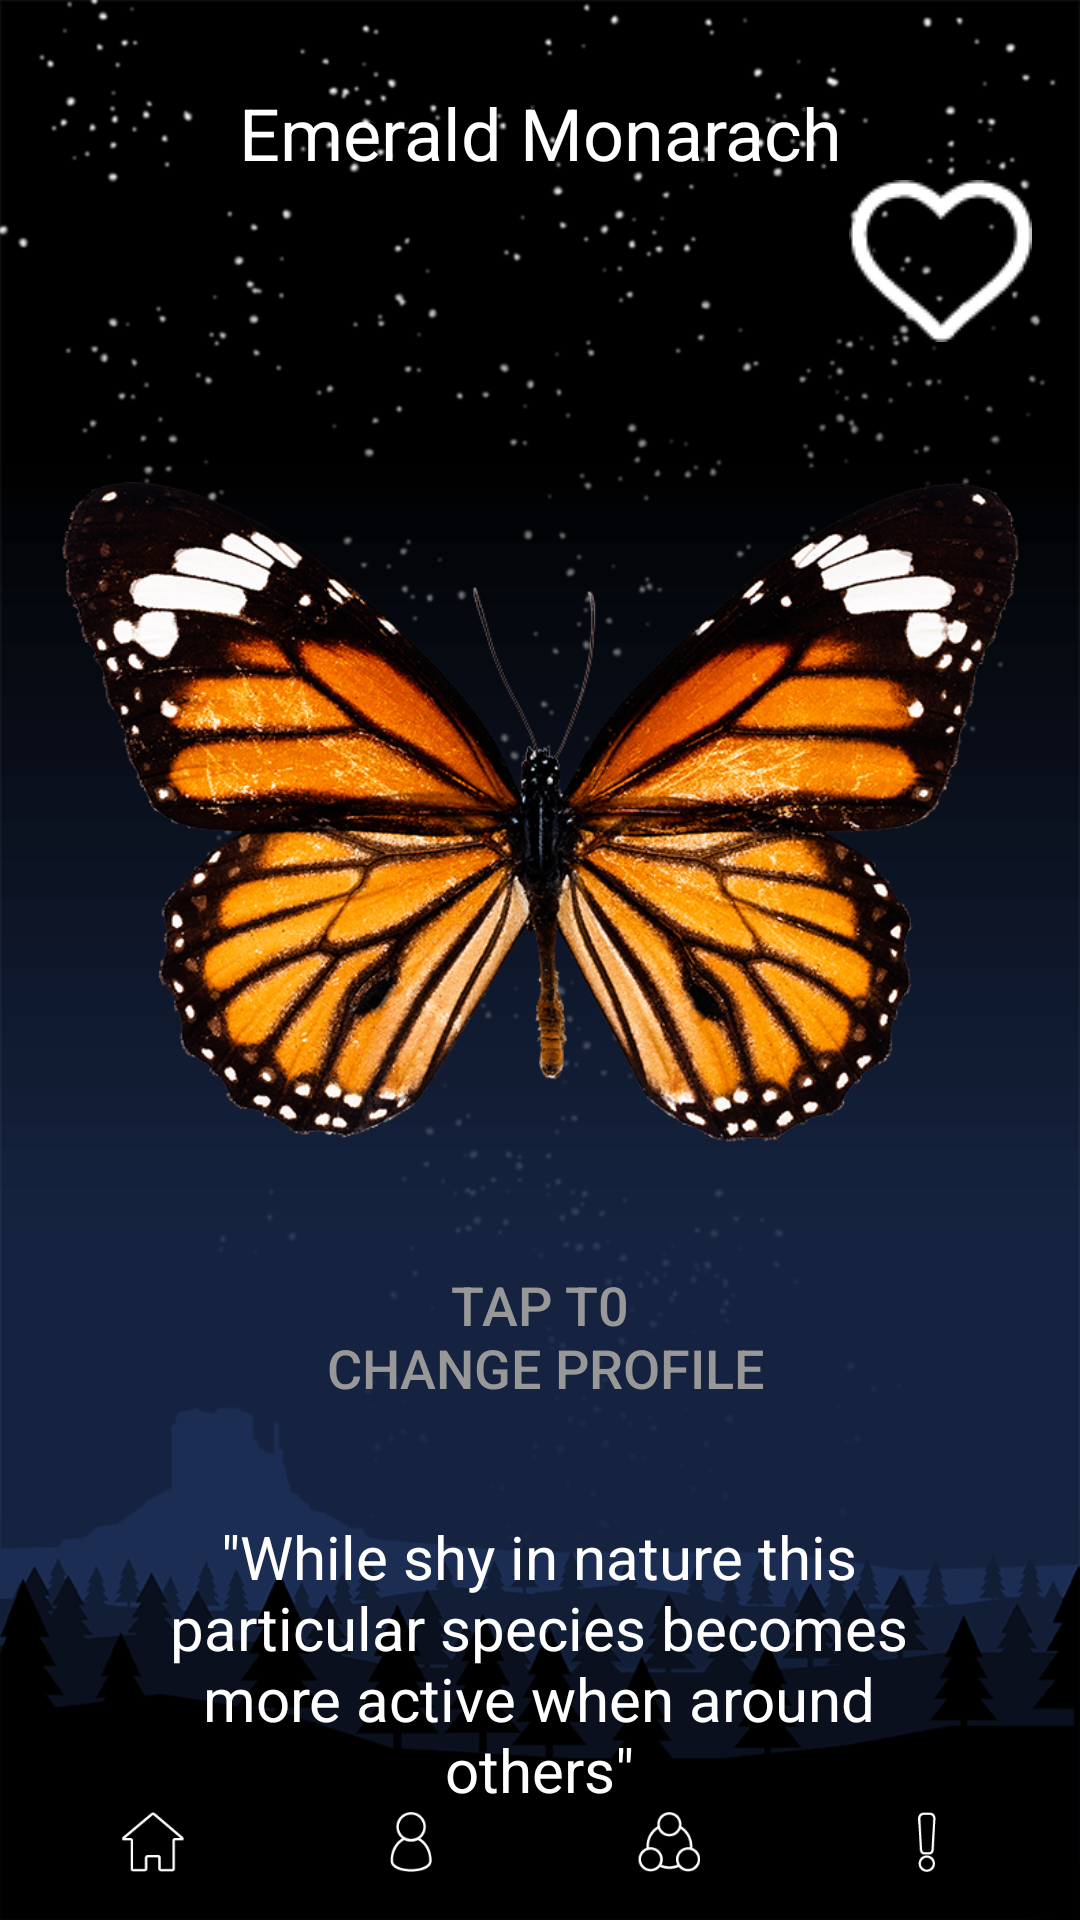

Icons on this 1080 x 1920 Android screen, each with the point to tap as (x=x, y=y):
community unfilled: (x=669, y=1842)
heart unfilled: (x=940, y=261)
home unfilled: (x=153, y=1842)
profile unfilled: (x=411, y=1842)
quest unfilled: (x=927, y=1842)
